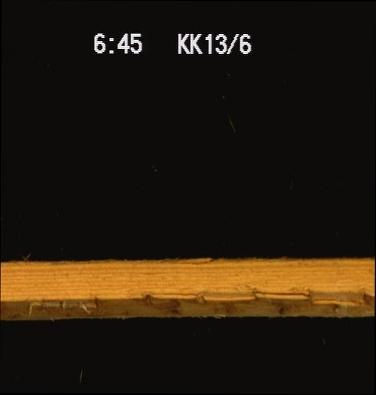wave: (0, 255, 373, 310)
